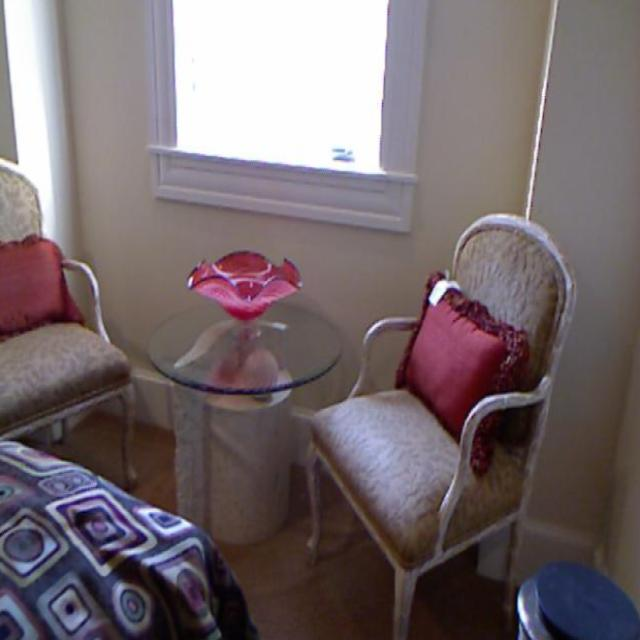obstacle: (300, 219, 582, 633), (0, 144, 151, 498), (169, 238, 328, 538)
